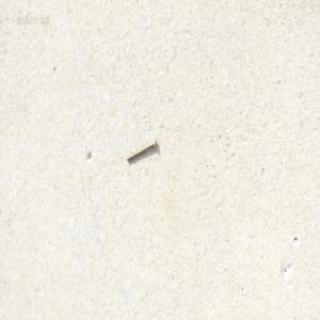Bolttrack_idkeyframe: (124, 136, 156, 161)
